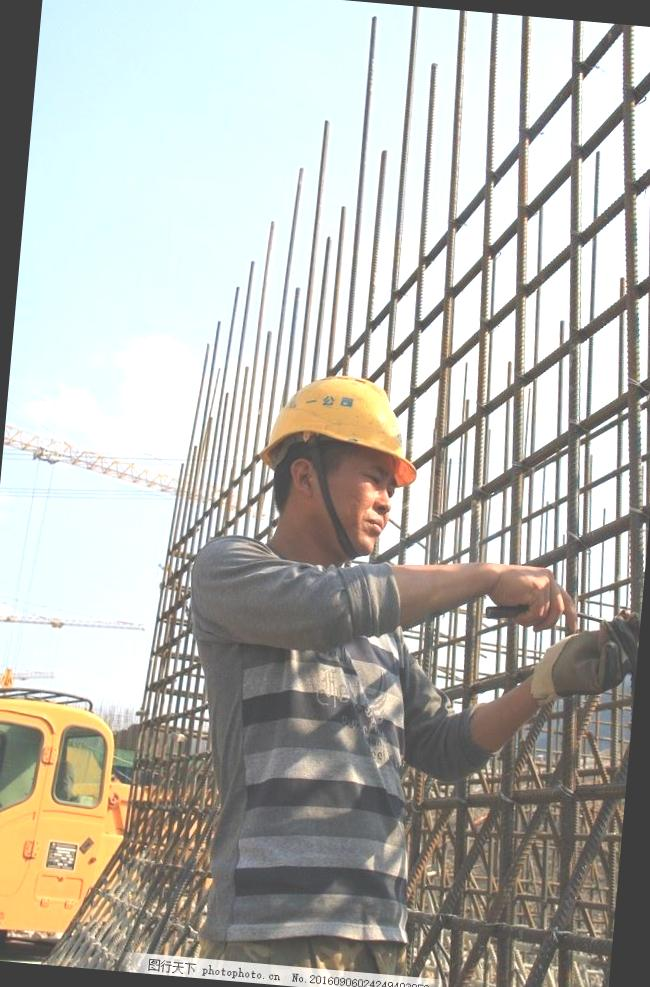helmet: (265, 362, 432, 470)
no_vest: (162, 539, 464, 959)
person: (154, 354, 502, 984)
